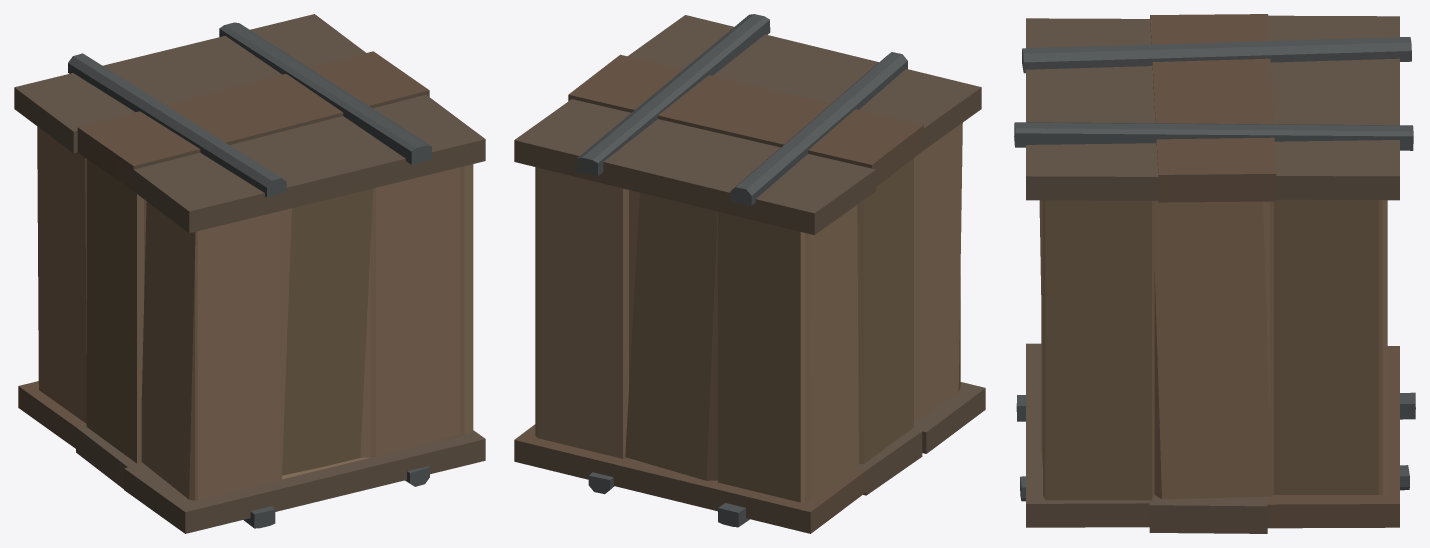
File: crate.fbx
3 renders of one model, left to right at view 1: azimuth 30°, elevation 25°; view 2: azimuth 150°, elevation 25°; view 3: azimuth 270°, elevation 25°, orthographic. The views are drawn at different scales.
Parts seen in each view (by area): view 1: createBody, crateTop, crateBottom, metalBar, metalBar1; view 2: createBody, crateTop, crateBottom, metalBar1 (×2), metalBar; view 3: createBody, crateTop, crateBottom, metalBar, metalBar1 (×2).
Boxes of the visible parts, left/top/right/bottom form: createBody: left=37, top=126, right=473, bottom=500; crateTop: left=14, top=14, right=485, bottom=233; crateBottom: left=18, top=381, right=485, bottom=533; metalBar: left=68, top=53, right=286, bottom=197; metalBar1: left=219, top=22, right=431, bottom=164; createBody: left=535, top=122, right=962, bottom=502; crateTop: left=514, top=15, right=981, bottom=234; crateBottom: left=514, top=382, right=985, bottom=533; metalBar1 (×2): left=576, top=14, right=770, bottom=527; metalBar: left=730, top=52, right=907, bottom=205; createBody: left=1039, top=199, right=1387, bottom=500; crateTop: left=1026, top=14, right=1399, bottom=202; crateBottom: left=1026, top=343, right=1399, bottom=533; metalBar: left=1022, top=37, right=1411, bottom=73; metalBar1 (×2): left=1014, top=122, right=1415, bottom=421.
Bounding box in the file's own units: 56.75 × 60.8 × 59.07.
